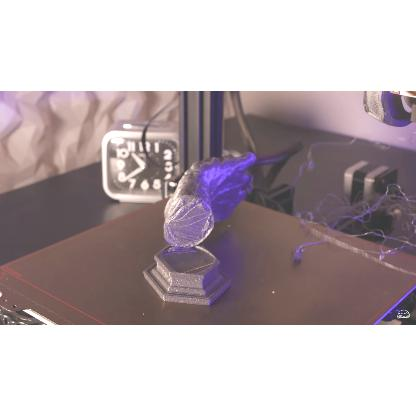fail: (294, 184, 416, 256)
